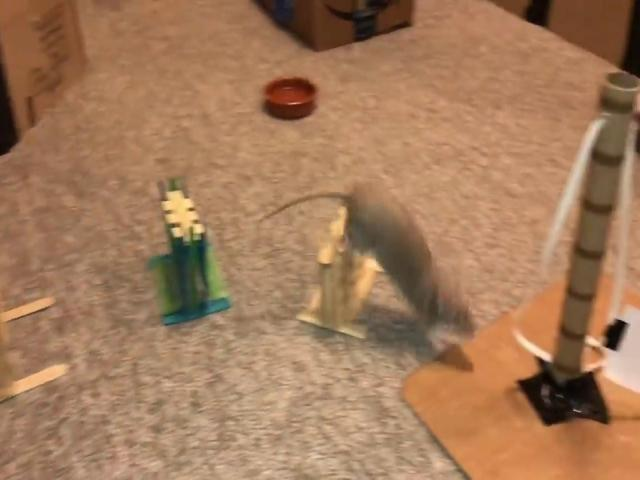Tikus: (342, 173, 478, 354)
